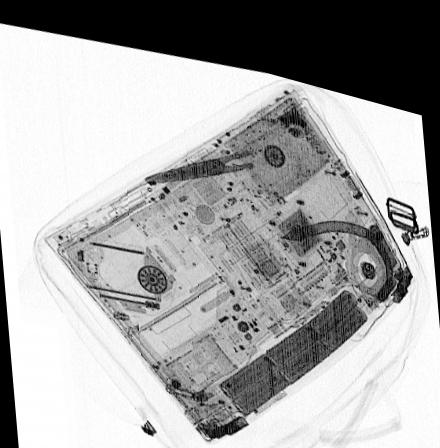Scissors: (137, 131, 262, 177)
